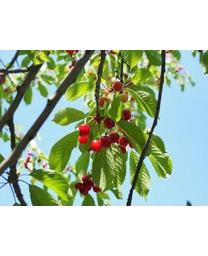cherry: (104, 117, 115, 130), (91, 138, 101, 152), (120, 110, 132, 121), (117, 135, 128, 146), (80, 124, 89, 134), (75, 181, 82, 190), (82, 173, 88, 182)
